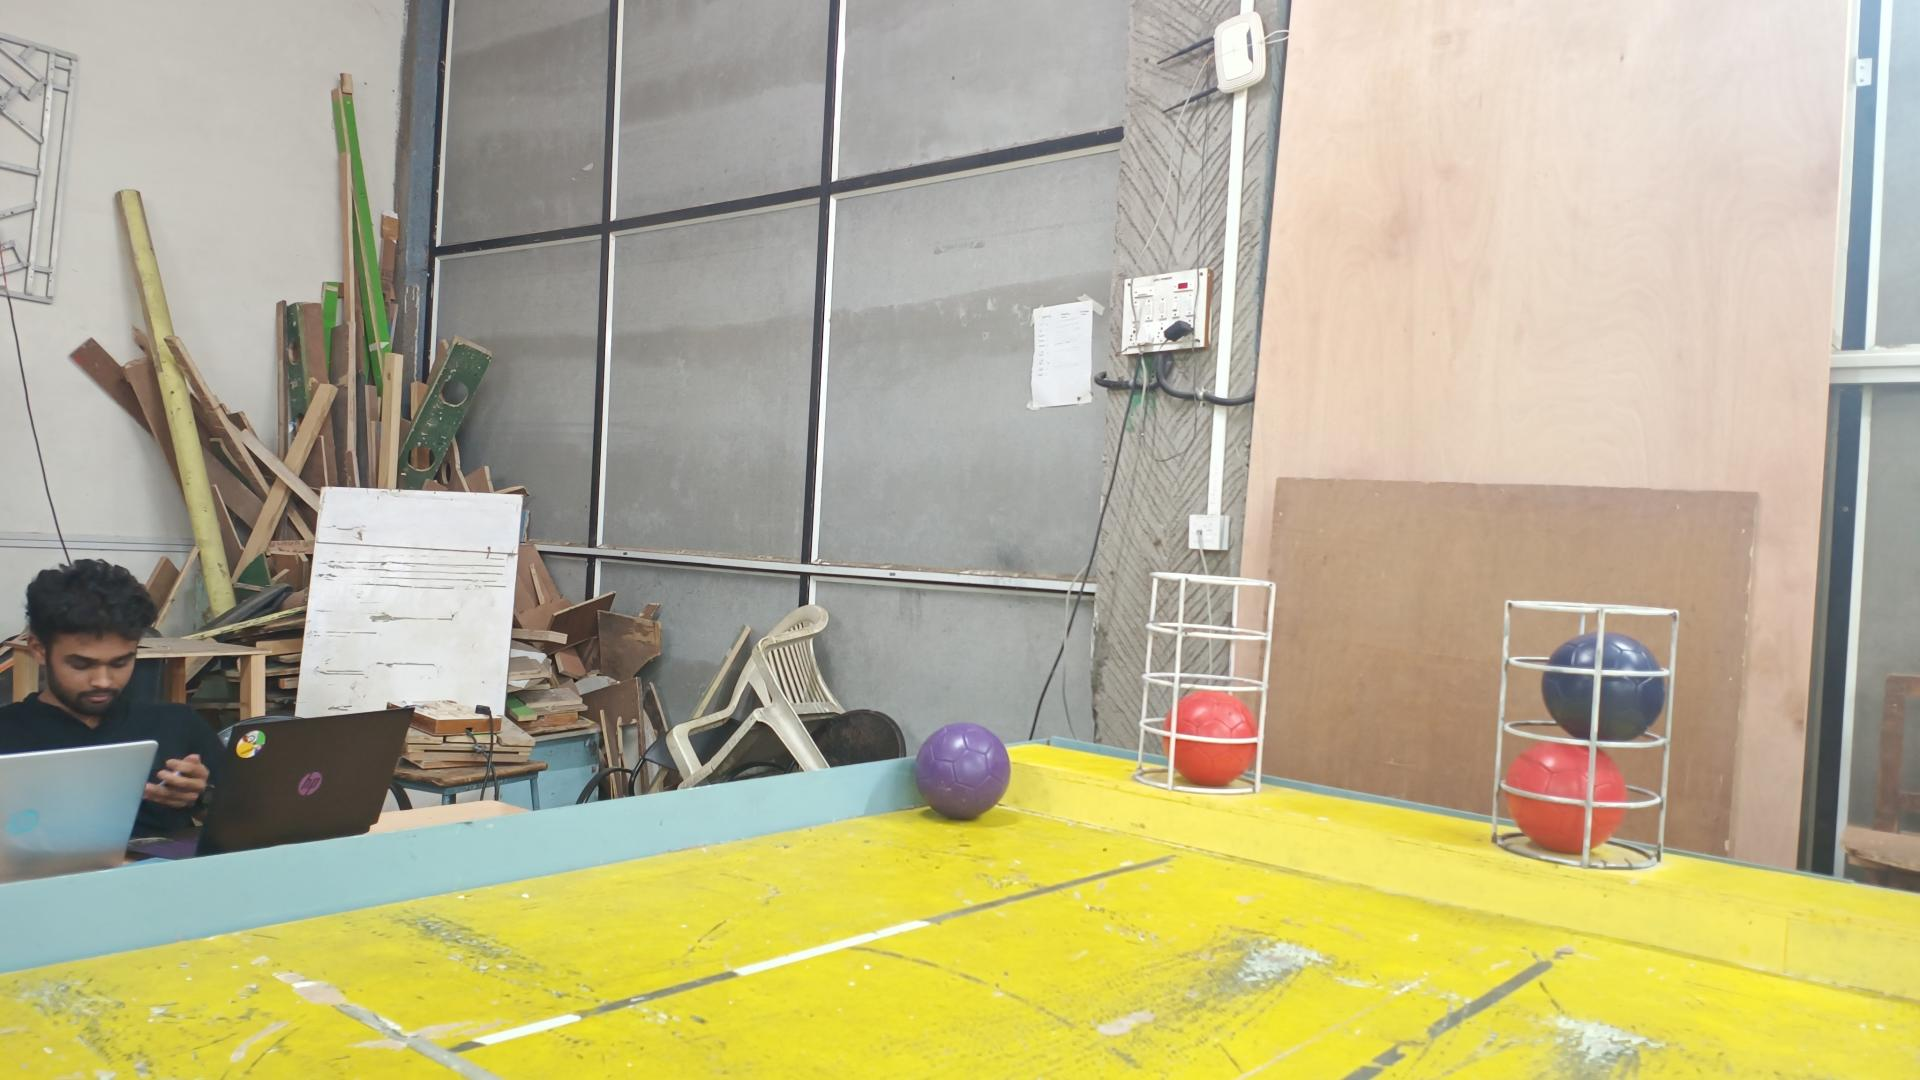dhoka: (1540, 632, 1664, 740)
laale: (1502, 740, 1626, 852), (1162, 692, 1259, 786)
